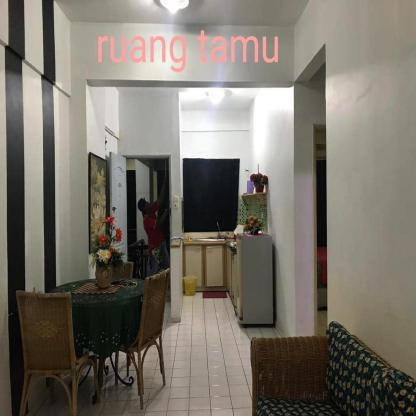kursi: (11, 287, 95, 408), (125, 269, 170, 401)
sova: (250, 327, 411, 416)
tanaman: (88, 209, 122, 271)
